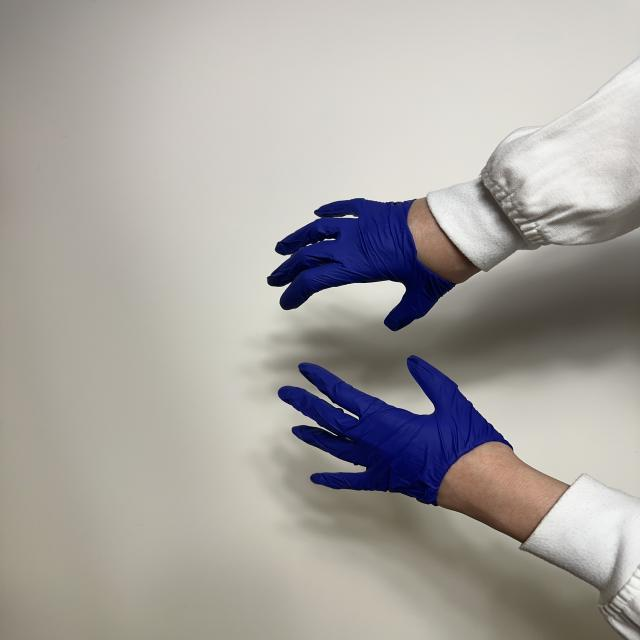glove_not_fitted: (280, 356, 574, 544), (265, 196, 491, 333)
